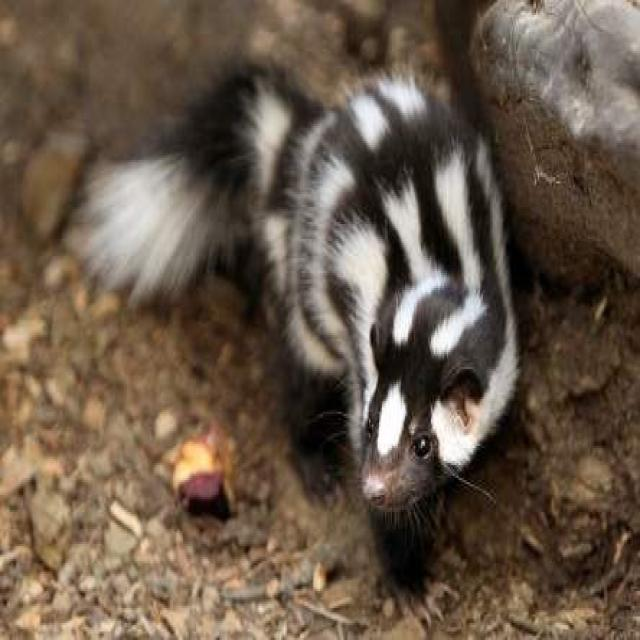Skunk: (68, 46, 523, 573)
